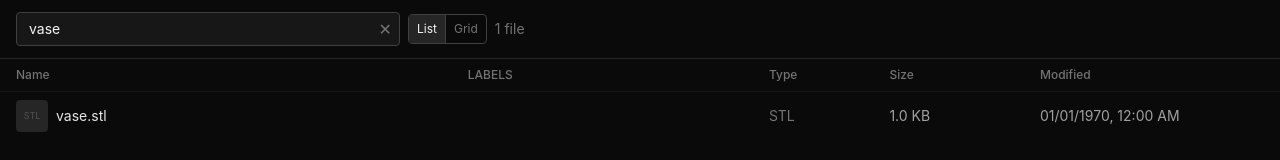
Test: FileList file count › shows count even when library has files, even if no files are visible from search
The width and height of the screenshot is (1280, 160).
Type "nonexistent" into the field with placeholder "Search files…" at (208, 29), box x1=16 y1=12 x2=400 y2=46
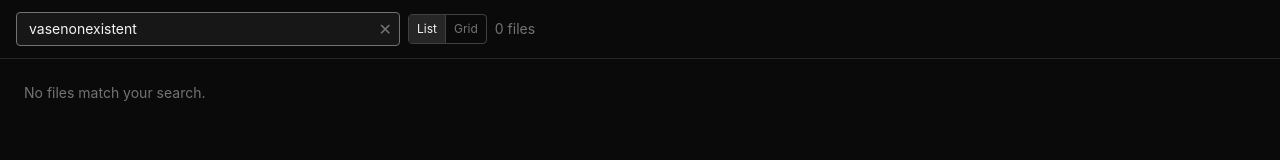
Check: the text "0 files" is shown, box x1=495 y1=19 x2=535 y2=39
